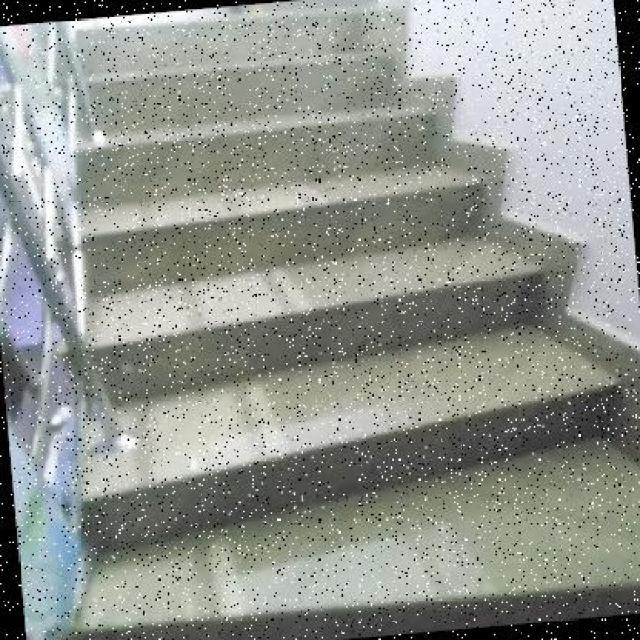Stairs: (58, 60, 612, 547)
